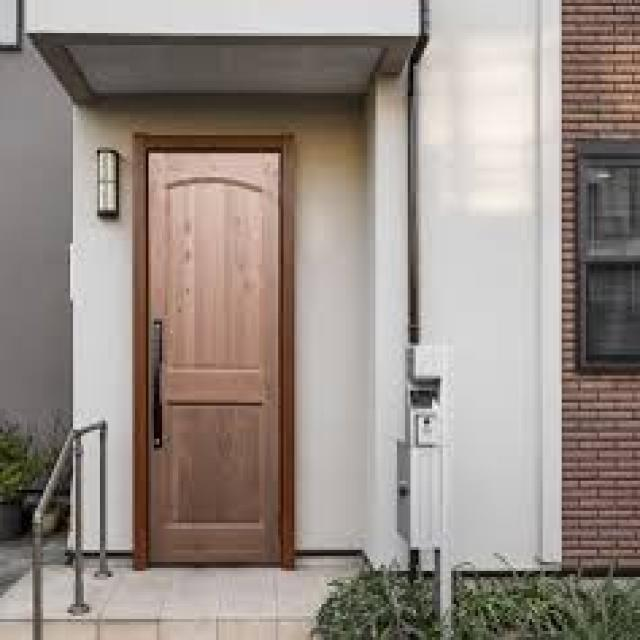door: (144, 143, 285, 566)
